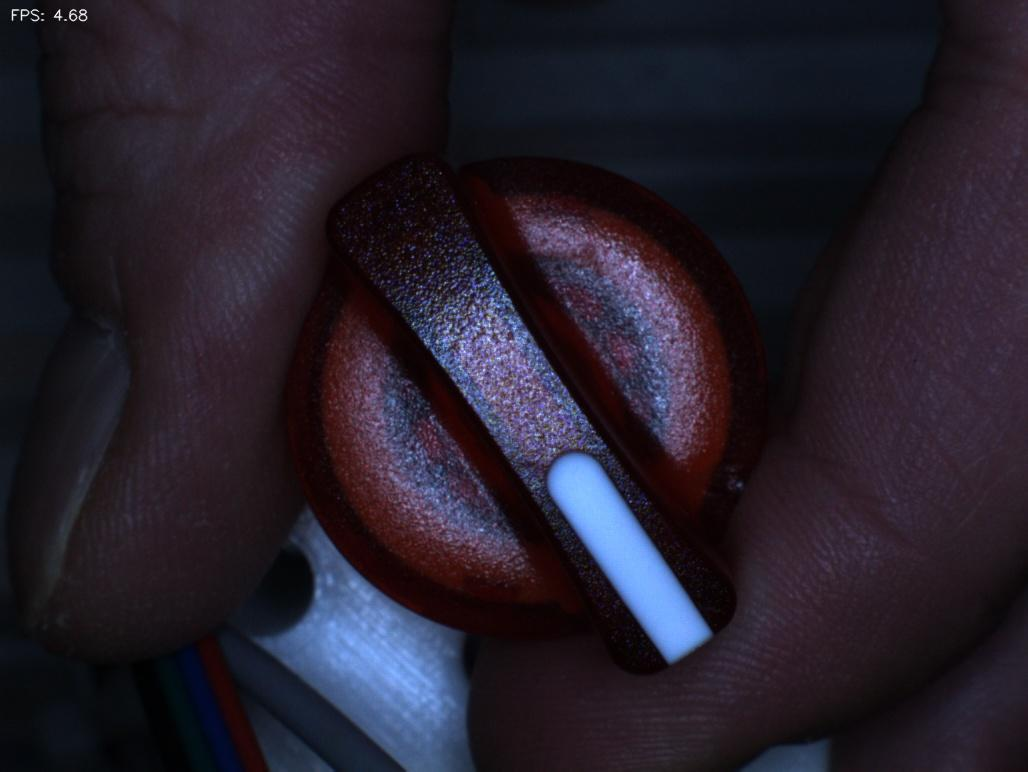Choc: (692, 436, 774, 519)
